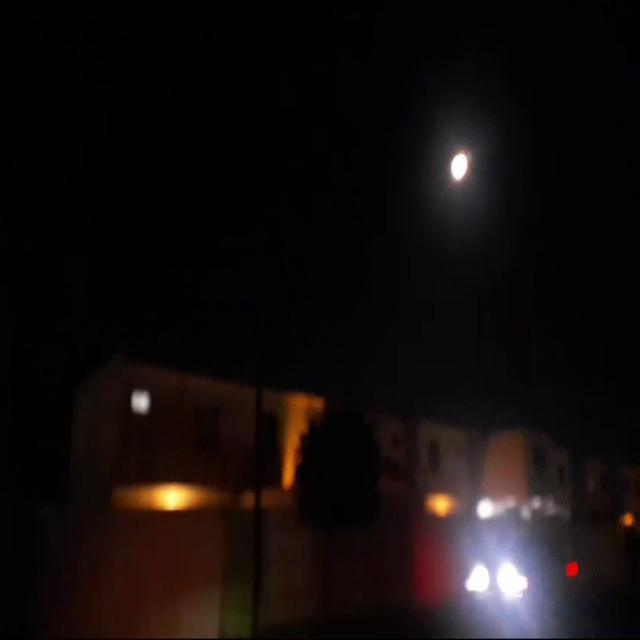moon: (436, 152, 456, 186)
